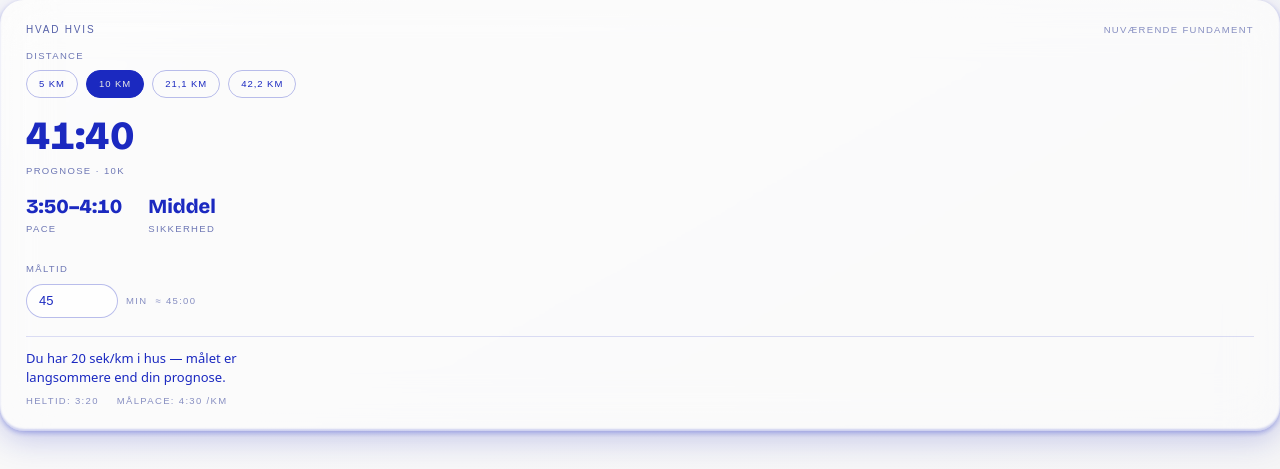
Test: WhatIfCard — distance choice › switches the shown prognosis when another distance is picked
This screenshot has width=1280, height=469.
Click the button with aria-label "5K · 5 km".
click(52, 84)  # box [26,70,78,98]
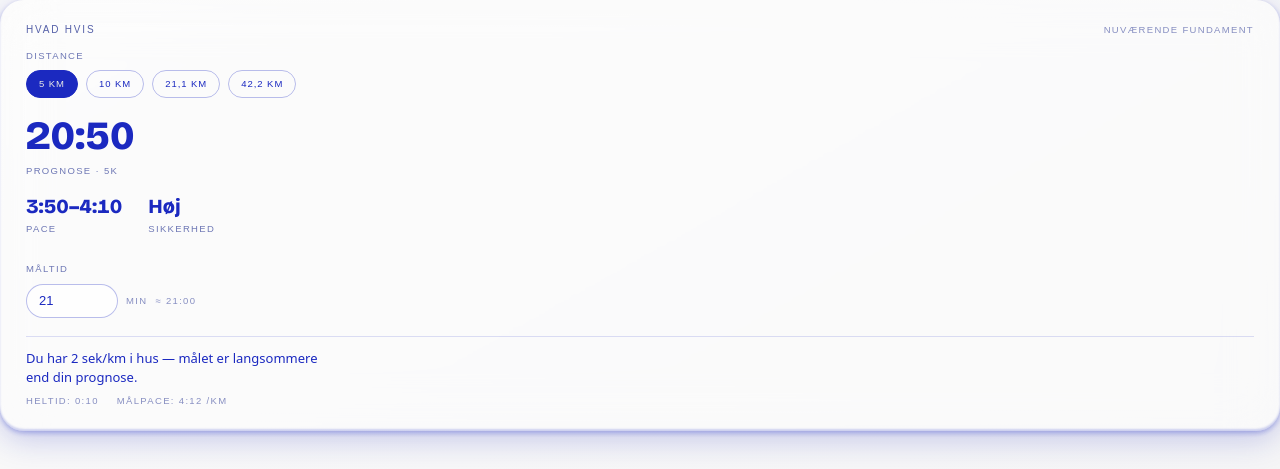
expect the text with test id "whatif-estimate" reads "20:50": met, box [26,112,134,160]
